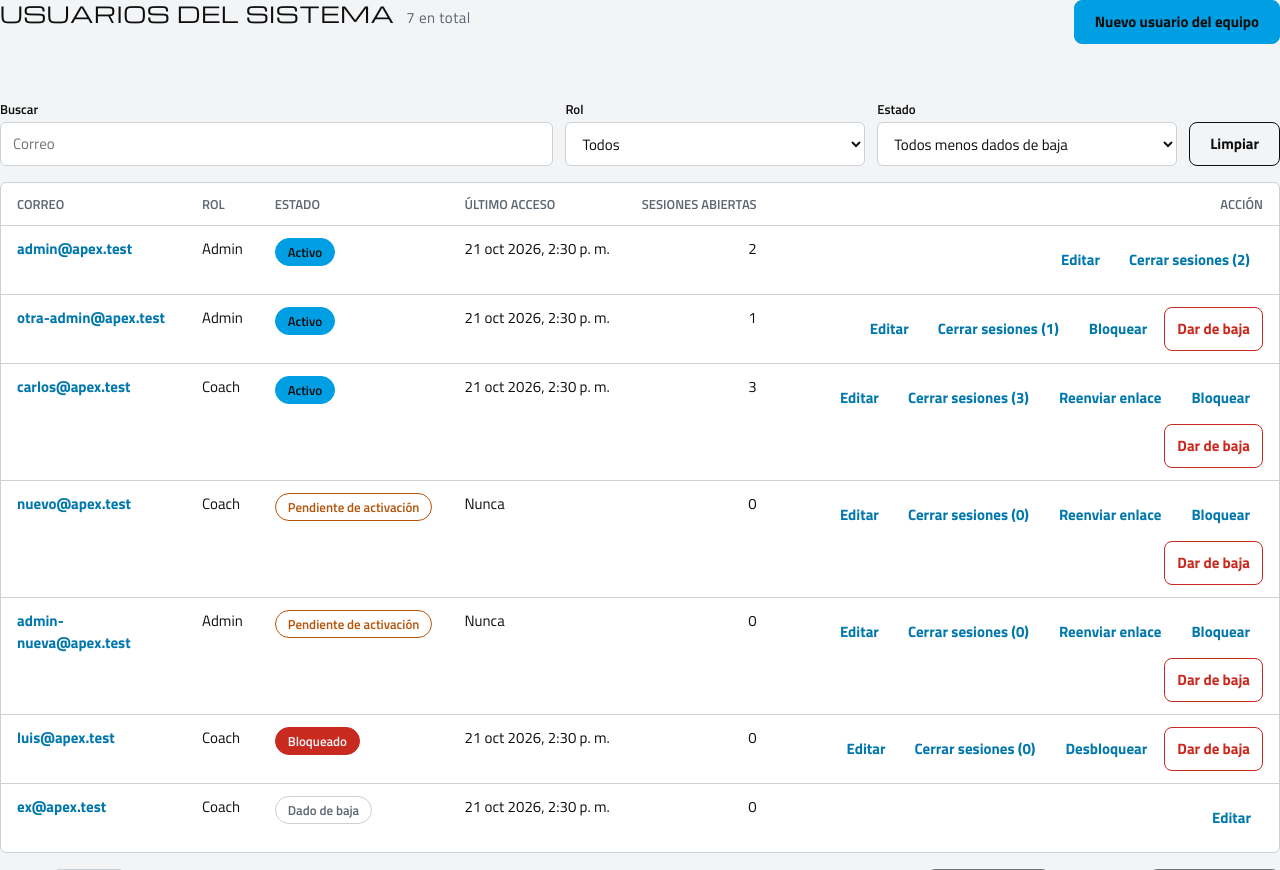
Test case: UsersPage · dar de baja (US-050) › un 5xx o la red no se presentan como éxito
The width and height of the screenshot is (1280, 870).
Click the 2nd button "Dar de baja" at (1214, 446), box [1164,424,1263,468]
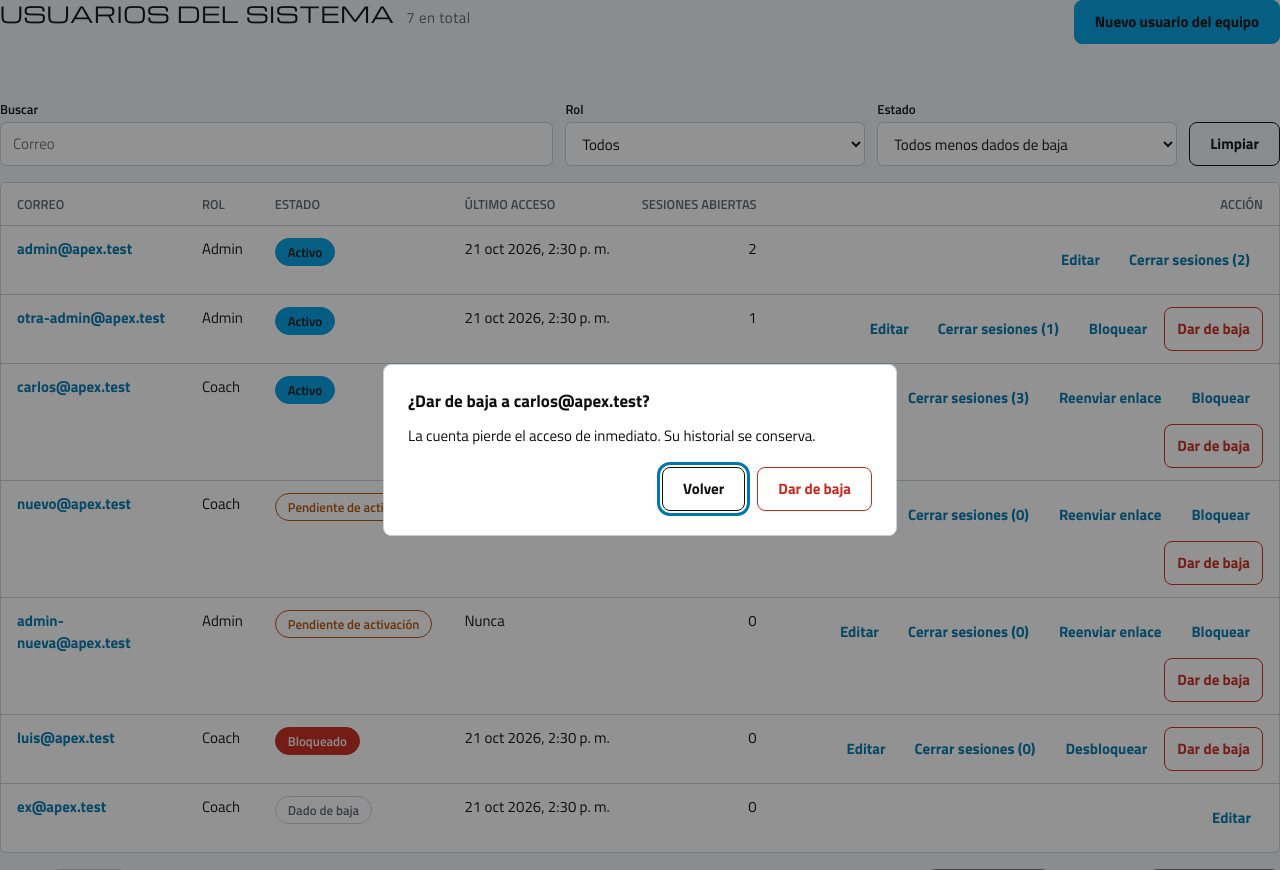
Click the button "Dar de baja" at (815, 489), box [757,467,872,511]
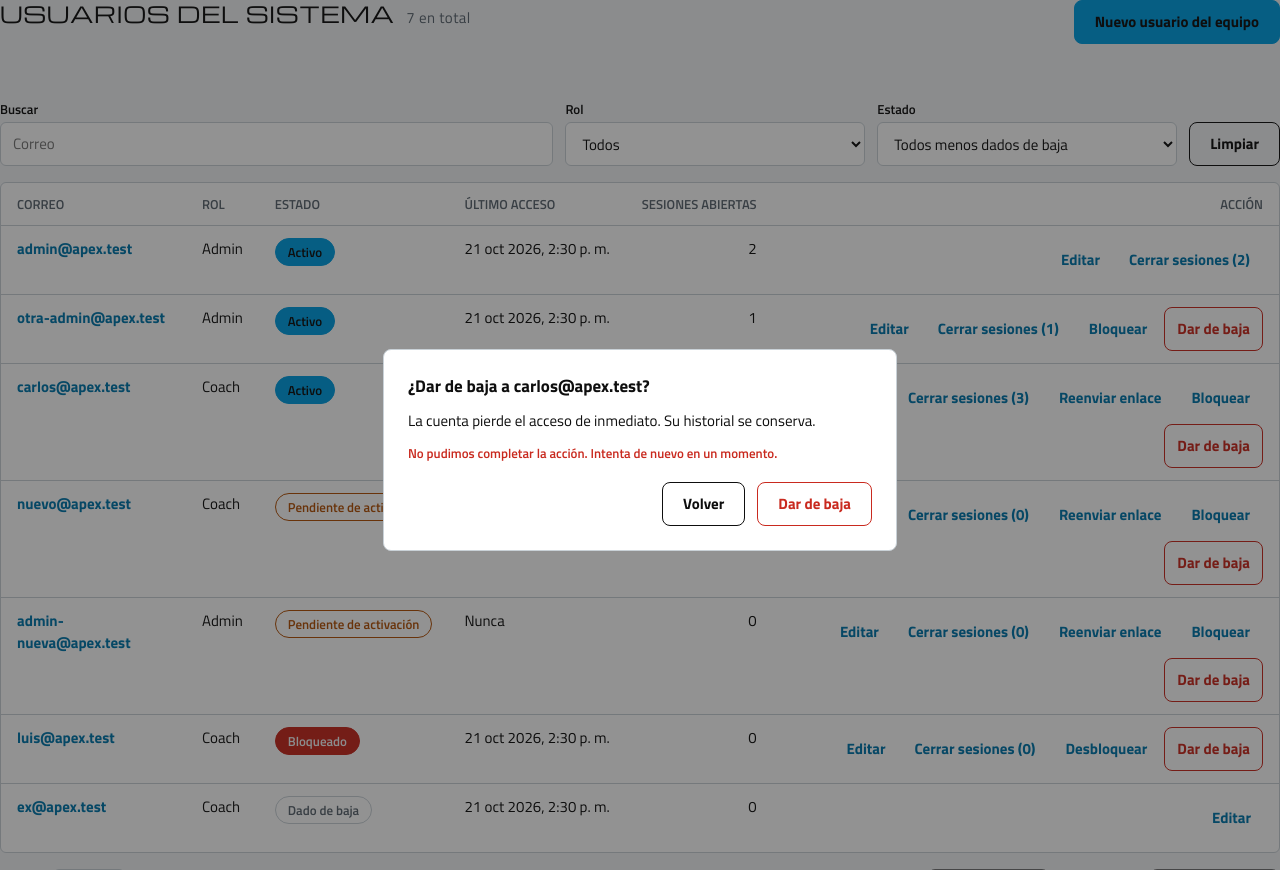
Expected: the message reads "No pudimos completar la acción. Intenta de nuevo en un momento.", [408,443,777,463]
